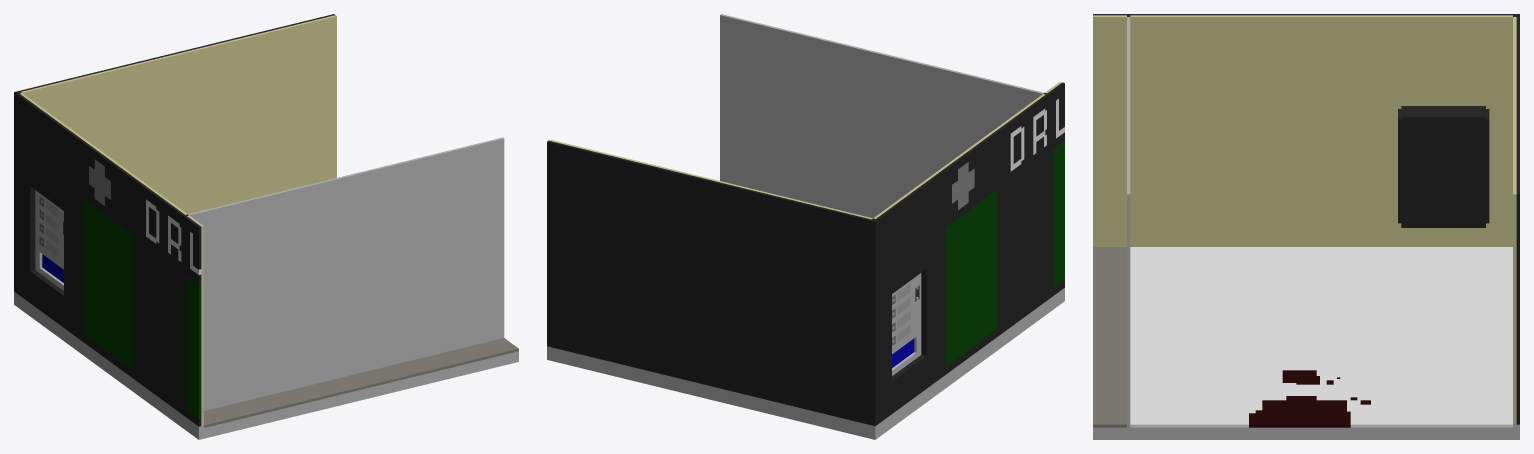
File: 2x2 first (1)-0.obj
3 views of the same model, side by side, from view 1: azimuth 30°, elevation 25°; view 2: azimuth 150°, elevation 25°; view 3: azimuth 270°, elevation 25° (orthographic). The views are drawn at different scales.
Visible parts, largest first — view 1: 2x2 first (1)-0; view 2: 2x2 first (1)-0; view 3: 2x2 first (1)-0.
Part boxes in pixels (x1,y1,x2,y2): 2x2 first (1)-0: [14, 14, 518, 439]; 2x2 first (1)-0: [547, 14, 1064, 439]; 2x2 first (1)-0: [1093, 14, 1519, 439].
Size of the model in its own units: 126 by 80 by 126.
Materials: 1 (1 with a texture image).
